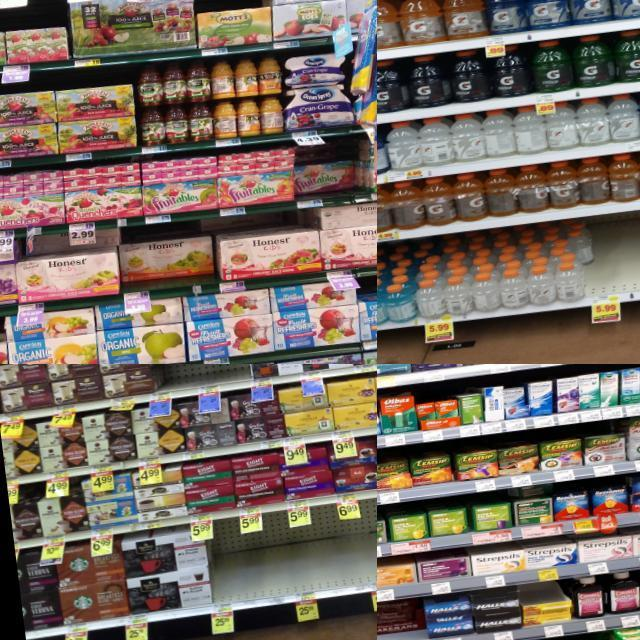empty: (281, 514, 364, 600), (207, 522, 288, 610), (590, 206, 640, 304), (357, 504, 377, 590), (192, 364, 251, 393), (153, 364, 195, 399)
